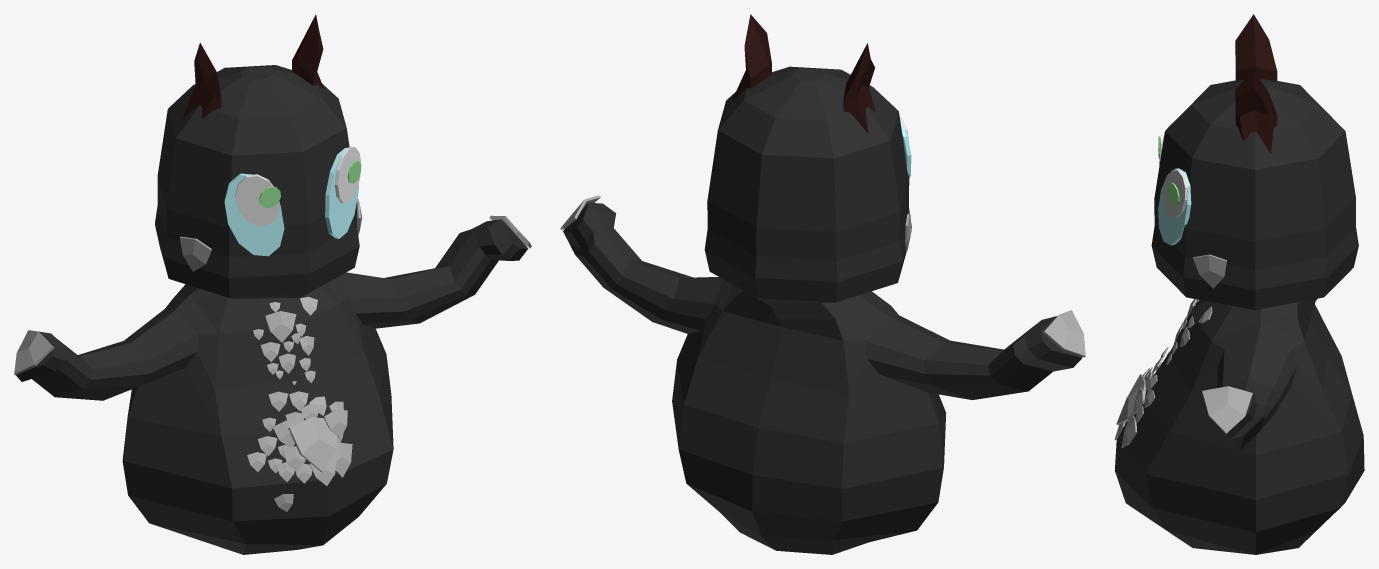
The model's file is thirdType.fbx.
The picture shows the model from 3 angles, left to right: view 1: azimuth 30°, elevation 25°; view 2: azimuth 150°, elevation 25°; view 3: azimuth 270°, elevation 25°; orthographic projection. The views are drawn at different scales.
Parts seen in each view (by area): view 1: Cube, Circle, Circle.001, Cube.001, Circle.002, Circle.003; view 2: Cube, Cube.001, Circle; view 3: Cube, Circle, Cube.001, Circle.001, Circle.002.
Part boxes in pixels (x1,y1,x2,y2): Cube: (16, 65, 528, 554); Circle: (14, 198, 531, 511); Circle.001: (224, 148, 358, 256); Cube.001: (182, 14, 323, 119); Circle.002: (235, 146, 361, 226); Circle.003: (259, 160, 361, 208); Cube: (563, 66, 1082, 554); Cube.001: (732, 14, 875, 133); Circle: (560, 195, 1085, 357); Cube: (1114, 78, 1364, 554); Circle: (1114, 254, 1252, 447); Cube.001: (1235, 14, 1277, 153); Circle.001: (1158, 168, 1191, 245); Circle.002: (1159, 122, 1188, 217).
Bounding box in the file's own units: 731 × 676 × 311.
